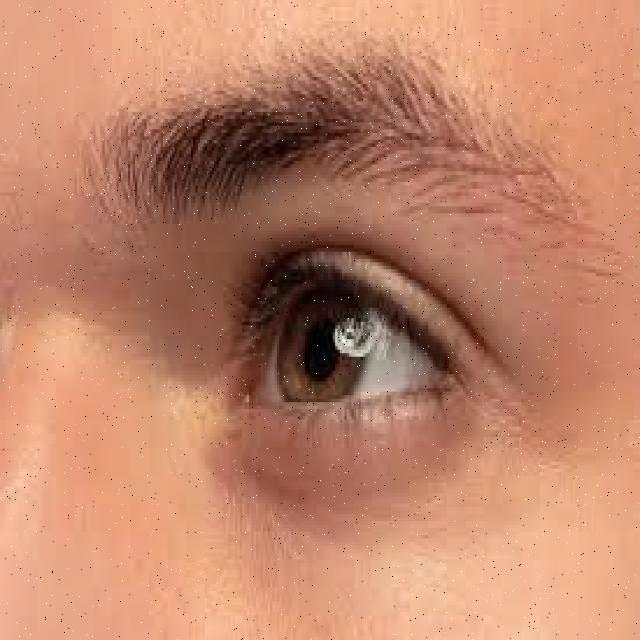Normal: (180, 196, 504, 503)
